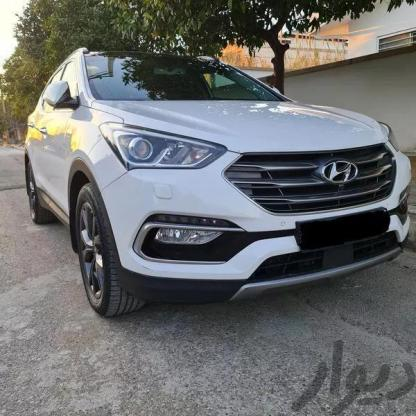Car: (0, 33, 415, 307)
